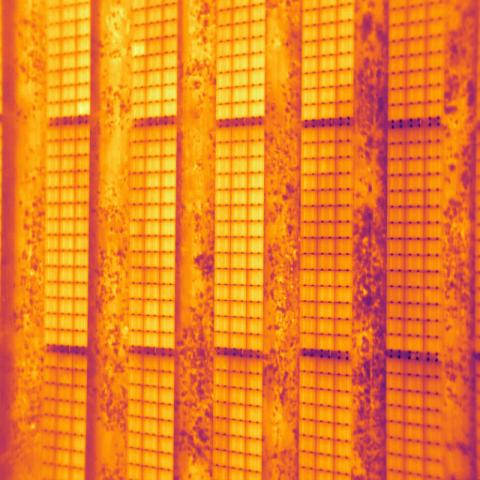fault: (131, 41, 147, 57), (76, 100, 90, 117)
